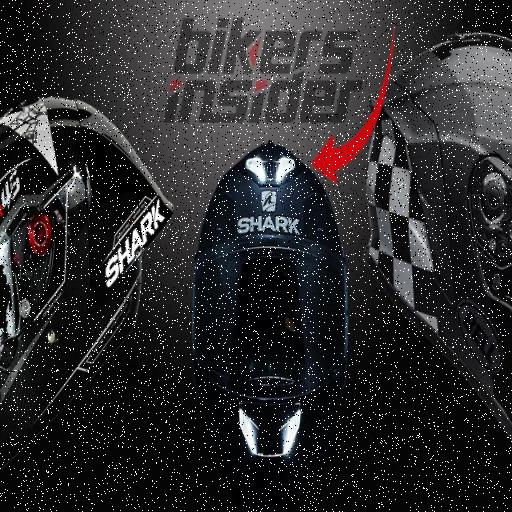Helmet: (0, 99, 172, 466), (365, 34, 511, 436), (193, 142, 347, 507)
